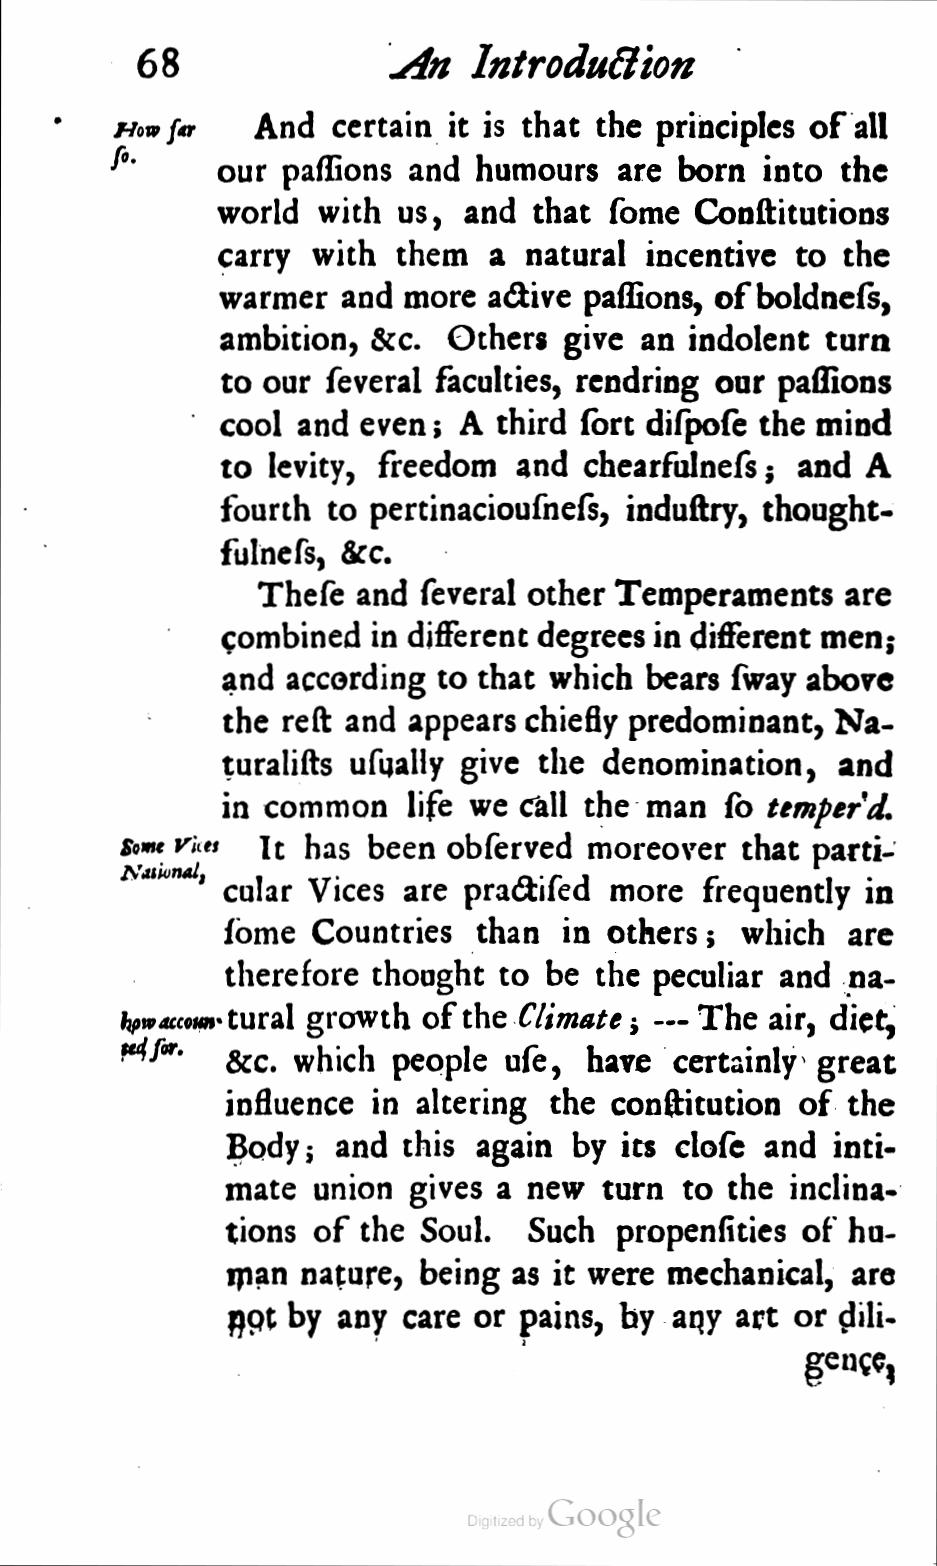catchword: (801, 1346, 898, 1390)
full_p: (215, 105, 896, 572), (221, 573, 898, 830)
header: (387, 39, 698, 83)
page_num: (134, 42, 182, 83)
print_marg: (118, 1007, 222, 1064), (118, 831, 222, 887), (107, 115, 200, 171)
top_p: (222, 830, 901, 1340)
